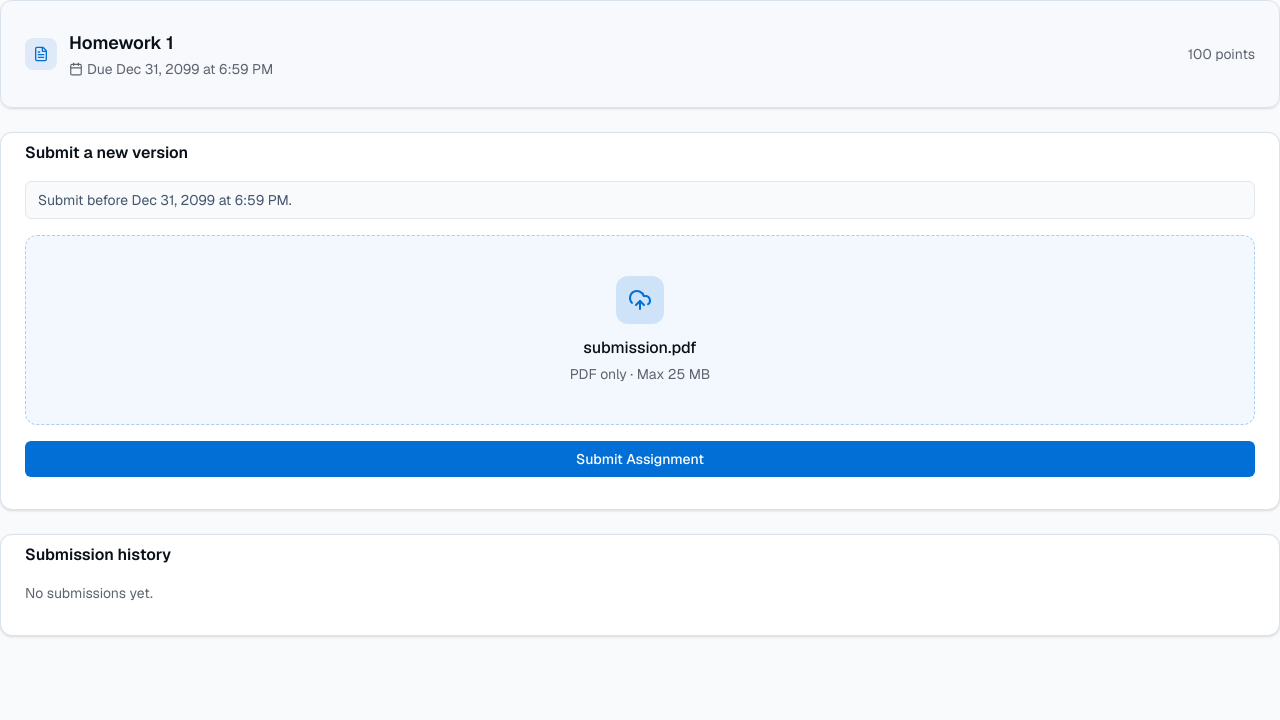
Test: submitNewVersion › shows error message from API response on failure
Earlier steps of the test are not shown.
Click the button "Submit Assignment" at (640, 459), box [25,441,1255,477]
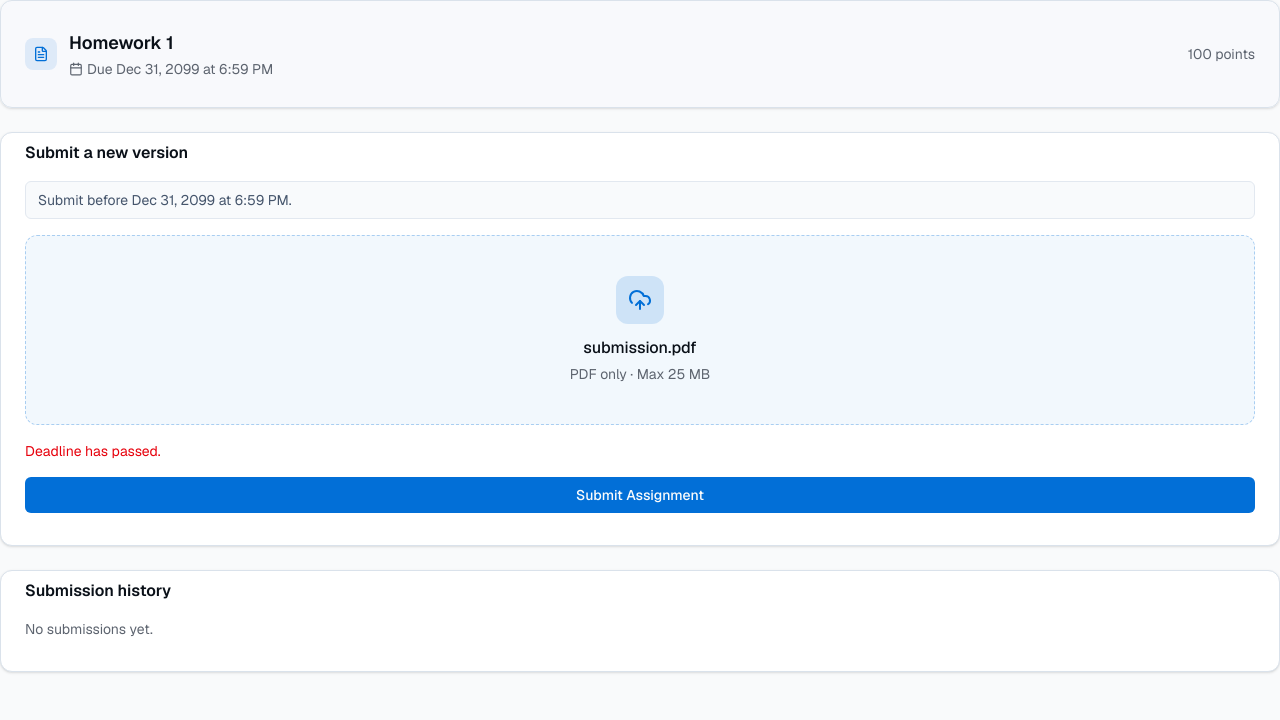
Expected: the text "Deadline has passed." is shown, [25,442,161,460]
